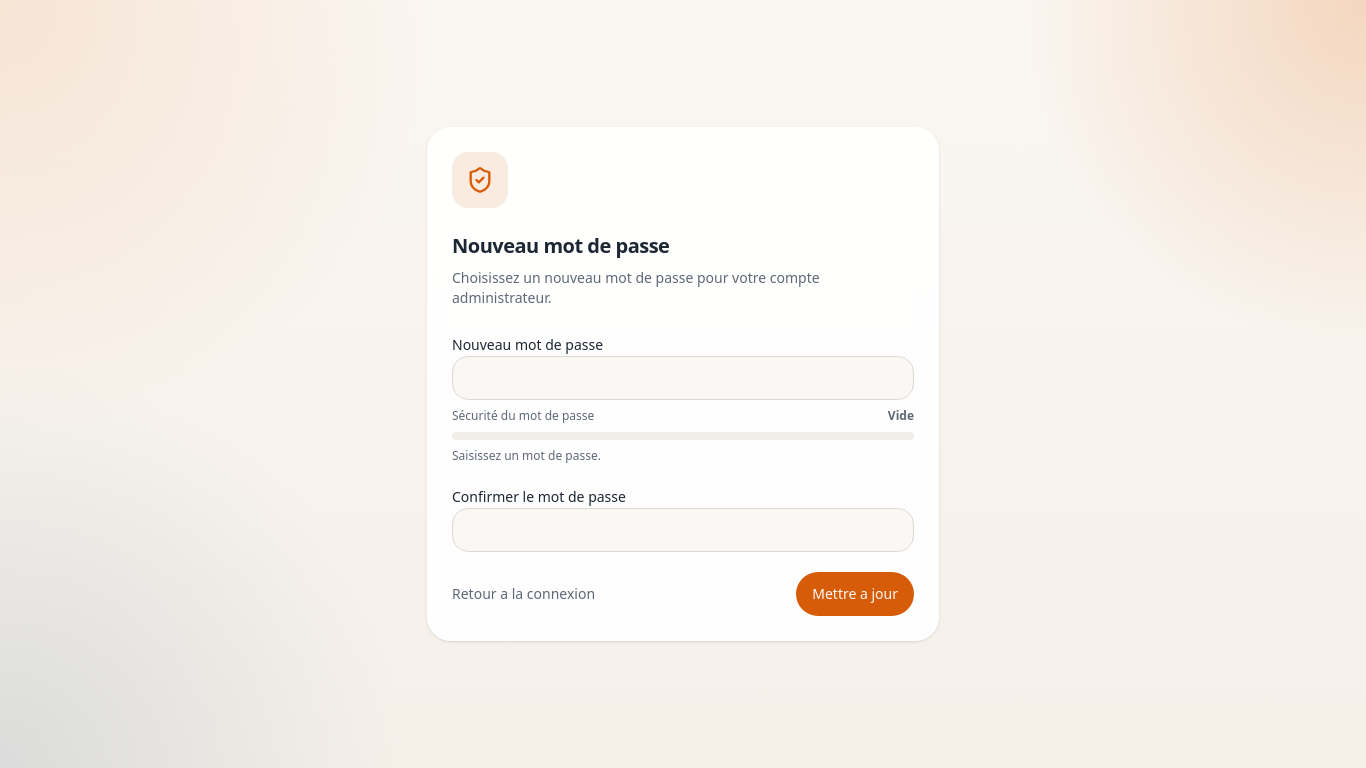
ResetPasswordPage › rejects an invalid reset link
Type "NewPass123!" into the password field labelled "Nouveau mot de passe" at coordinates (683, 378), box [452,356,914,400]
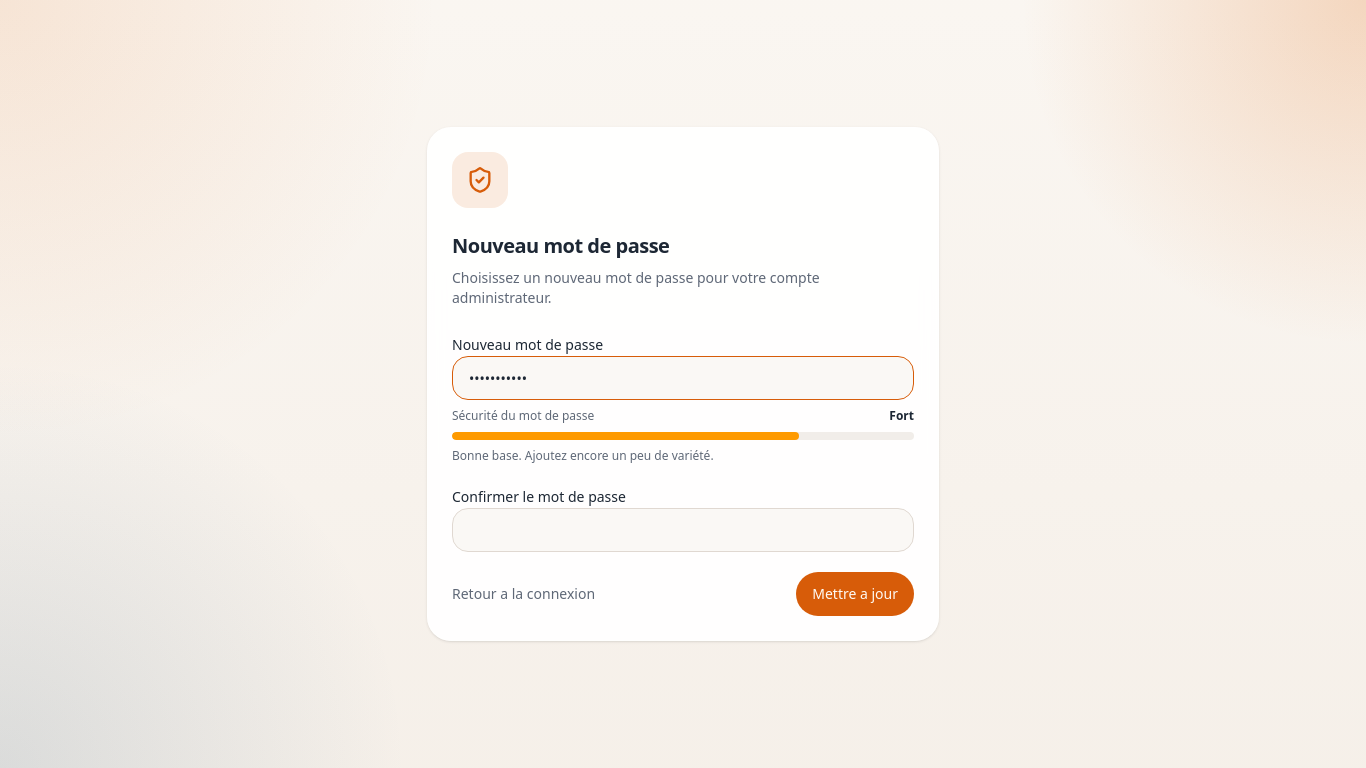
expect the progress indicator named "Sécurité du mot de passe" has attribute aria-valuenow="3": met, box [452,432,914,440]
Type "NewPass123!" into the password field labelled "Confirmer le mot de passe" at coordinates (683, 530), box [452,508,914,552]
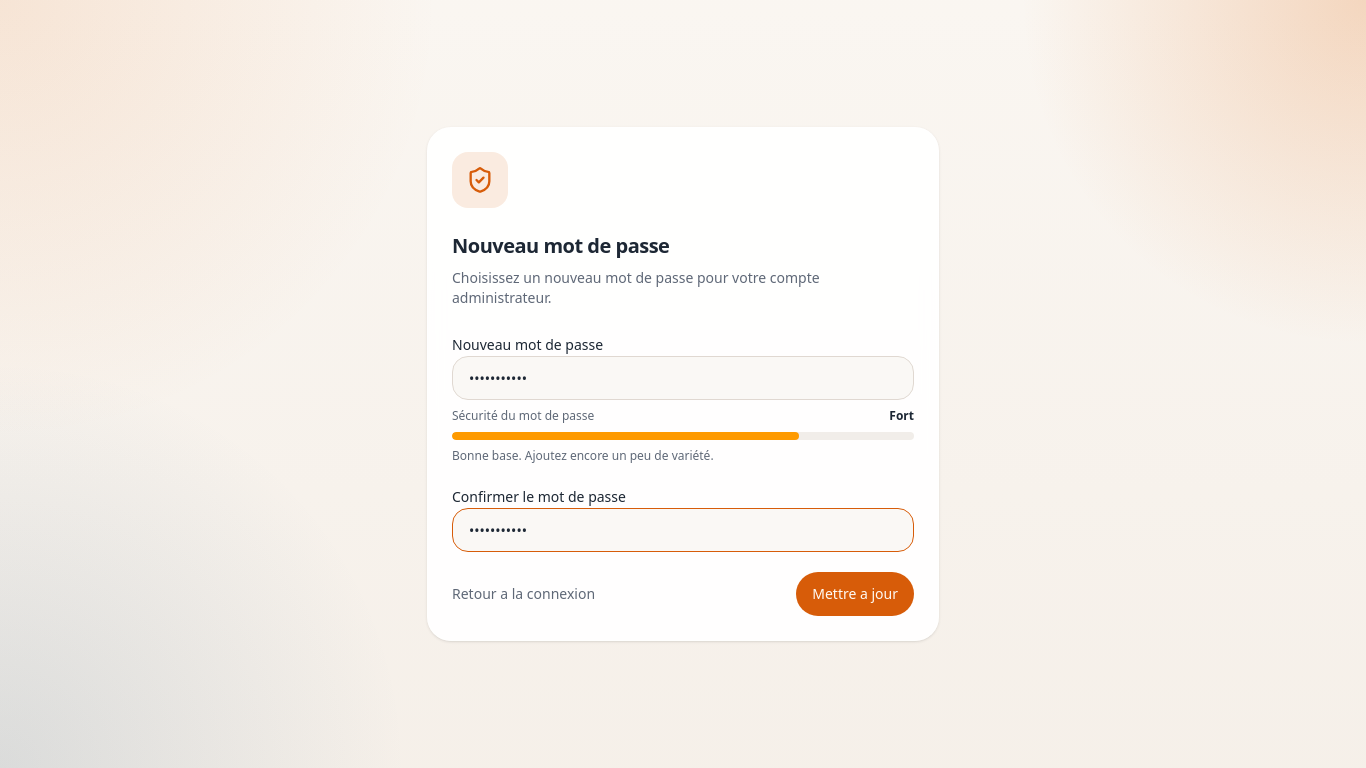
Click the button "Mettre a jour" at coordinates (855, 594), box [796,572,914,616]
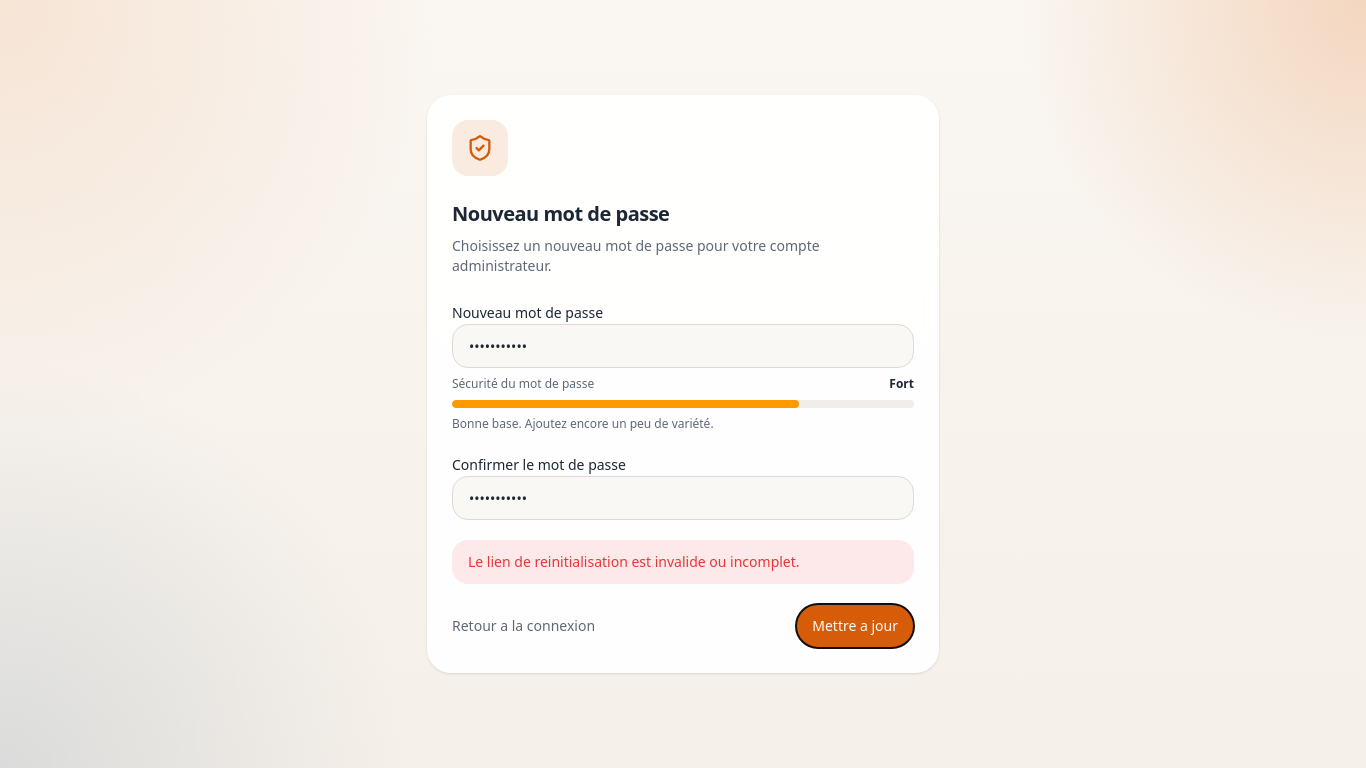
expect the text "Le lien de reinitialisation est invalide ou incomplet." is shown: met, box [452,540,914,584]
